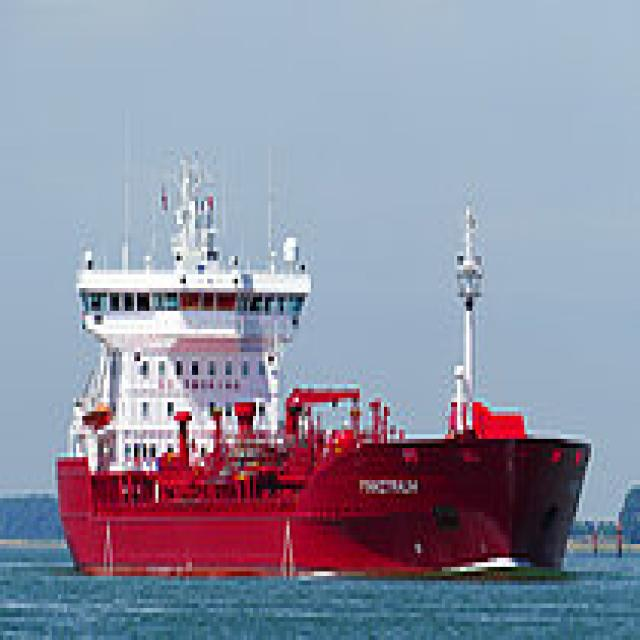Tanker: (46, 146, 591, 581)
